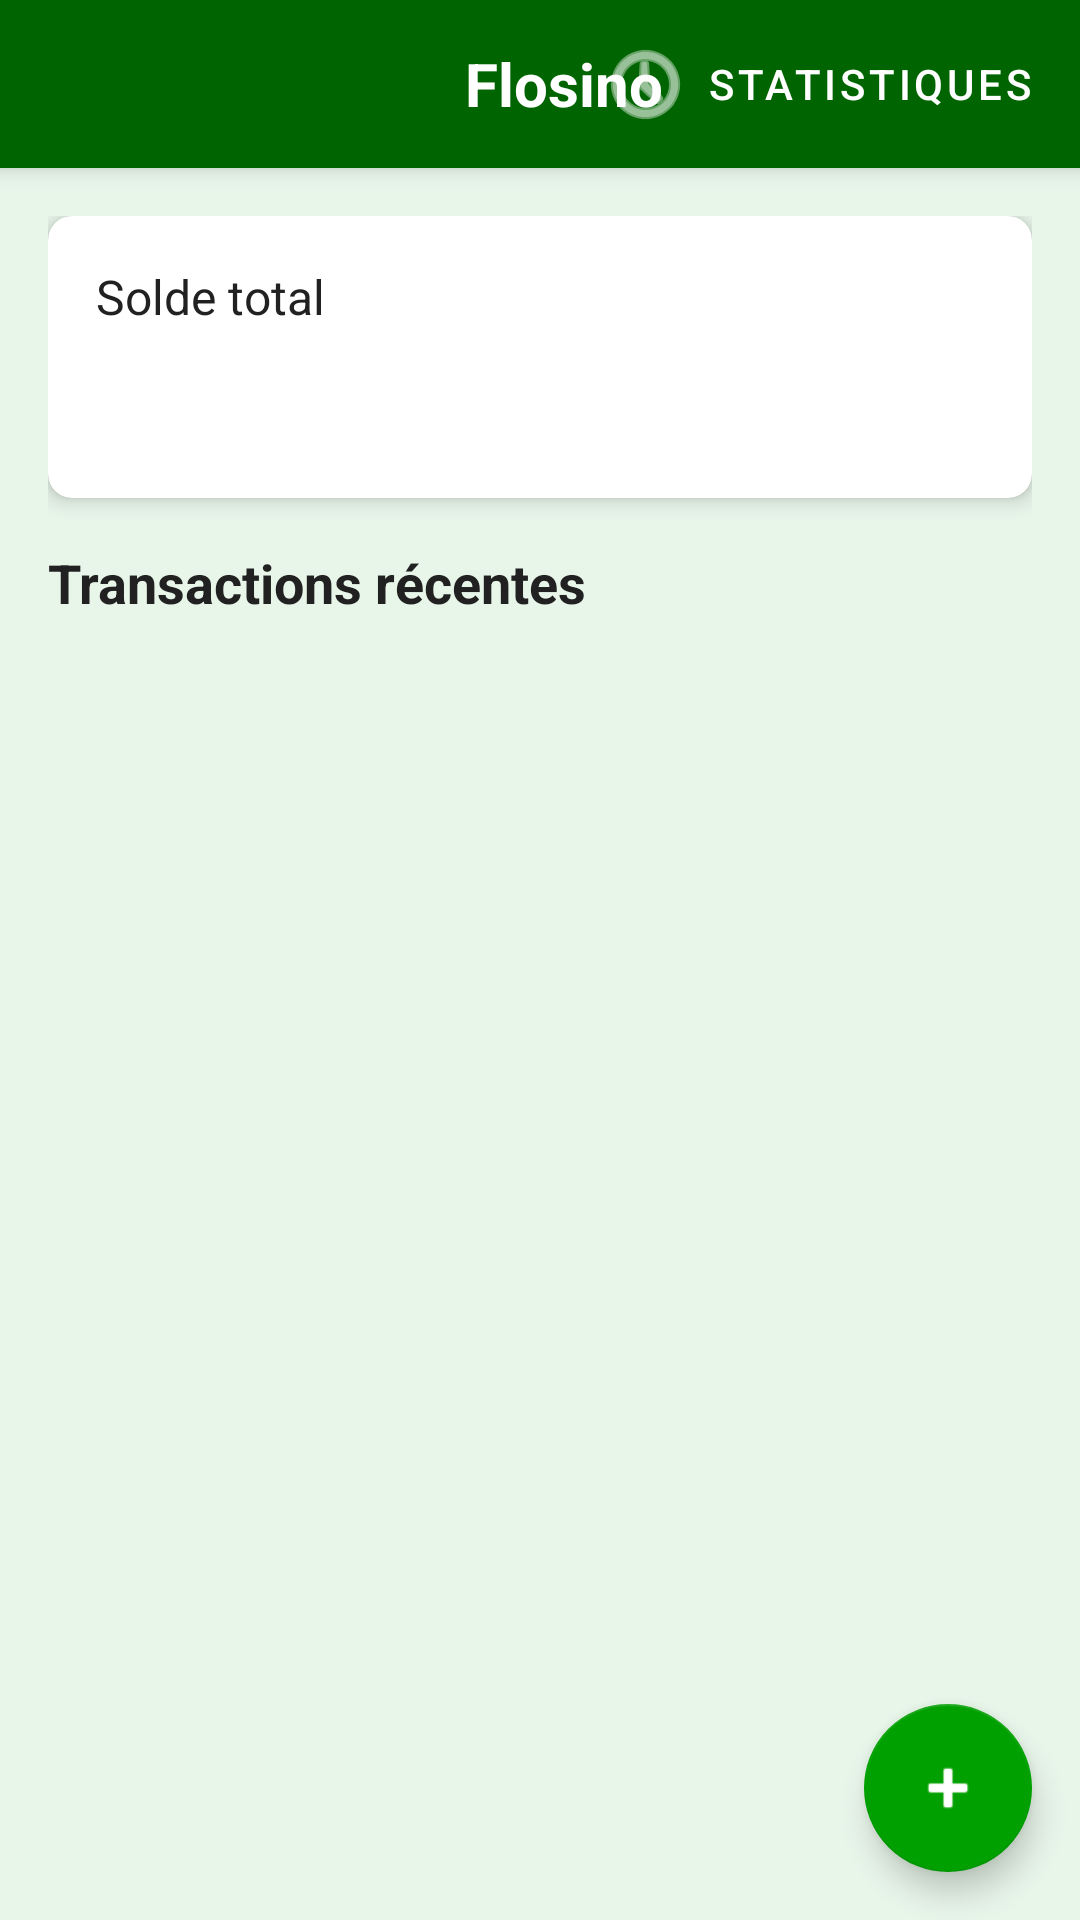

Icons on this 1080 × 1920 Android screen, each with the point to tap as [x,y]:
Ajouter une transaction: [948,1788]
